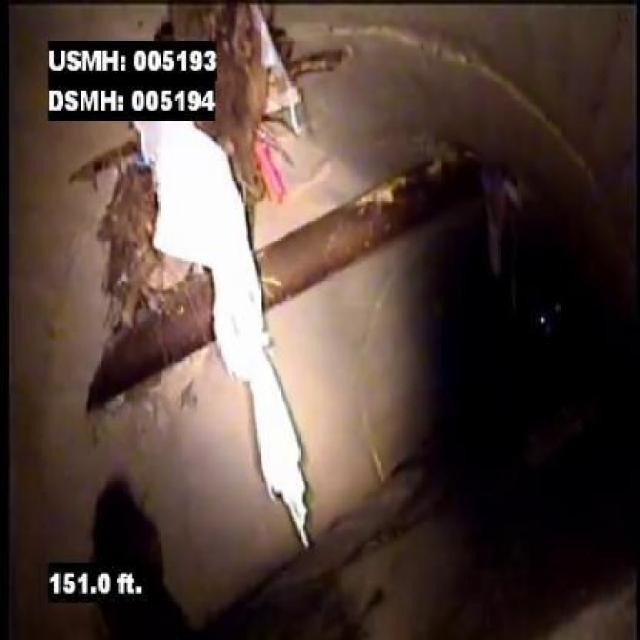Utility intrusion: (68, 231, 368, 414)
